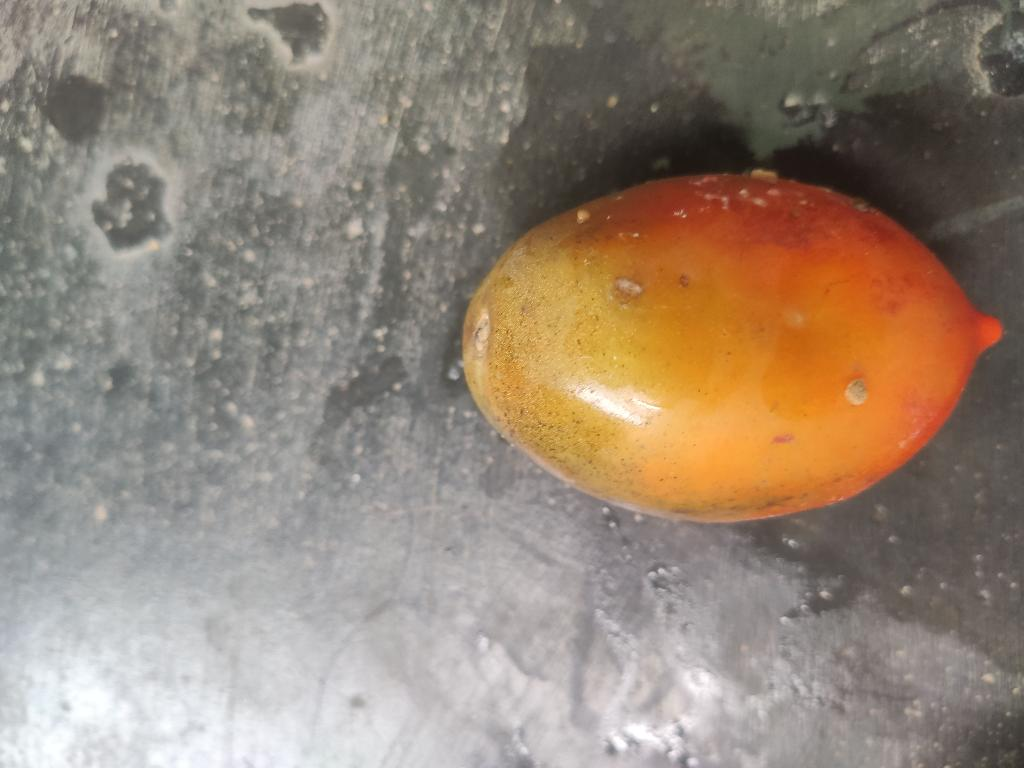bruise_discoloration: (465, 233, 739, 427)
surface_damage: (472, 316, 492, 356), (614, 276, 645, 297), (847, 379, 868, 402)
tomato: (463, 175, 1000, 520)
